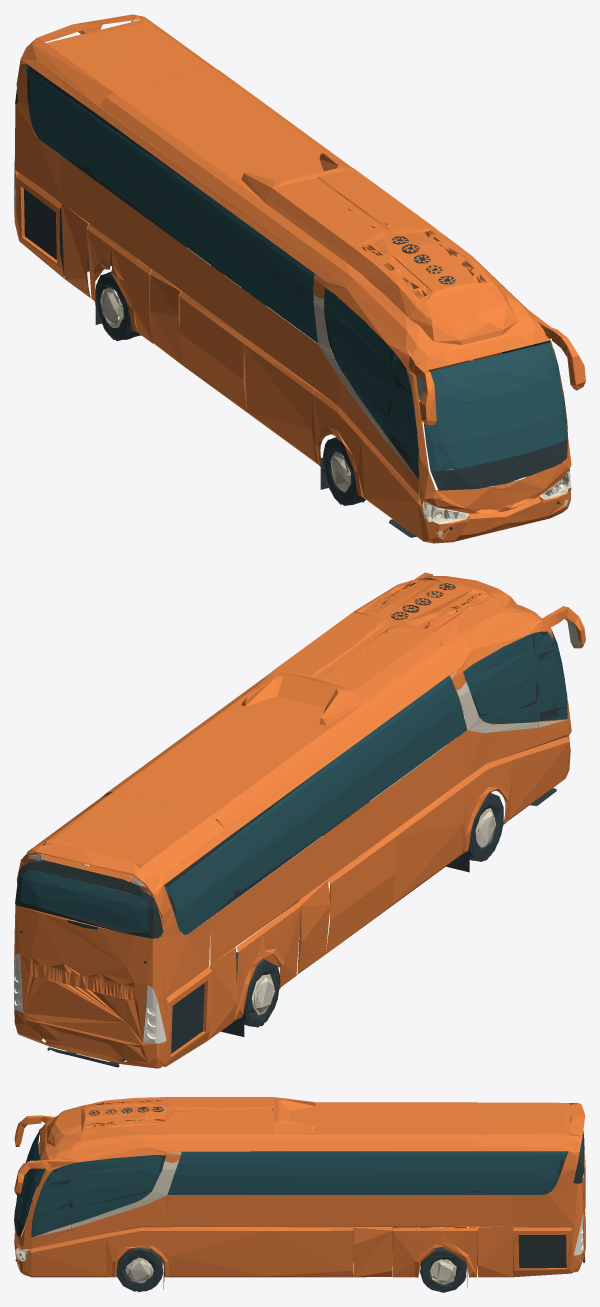
File: souha-bus.glb
3 renders of one model, top to bottom at view 1: azimuth 30°, elevation 25°; view 2: azimuth 150°, elevation 25°; view 3: azimuth 270°, elevation 25°, orthographic. The views are drawn at different scales.
Parts seen in each view (by area): view 1: SouhaBus; view 2: SouhaBus; view 3: SouhaBus.
Boxes of the visible parts, x1=… form: SouhaBus: x1=14, y1=14, x2=585, y2=543; SouhaBus: x1=14, y1=572, x2=585, y2=1068; SouhaBus: x1=14, y1=1097, x2=585, y2=1292.
Bounding box in the file's own units: 2.98 × 4.18 × 13.6.
